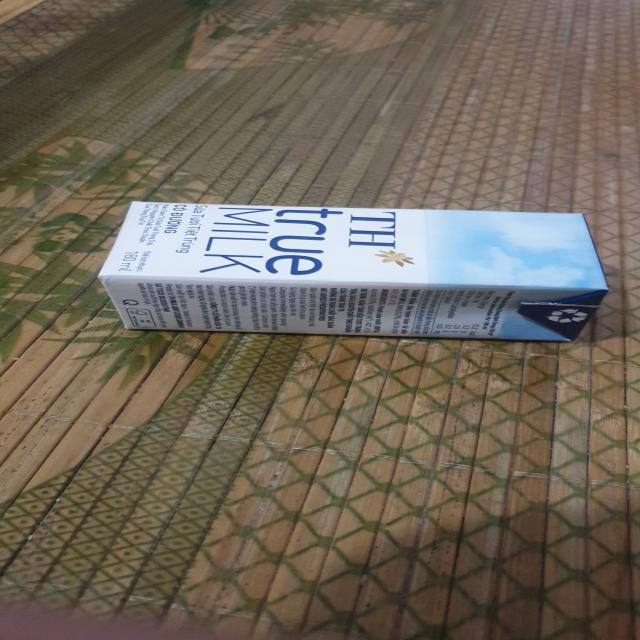TH: (94, 199, 613, 347)
